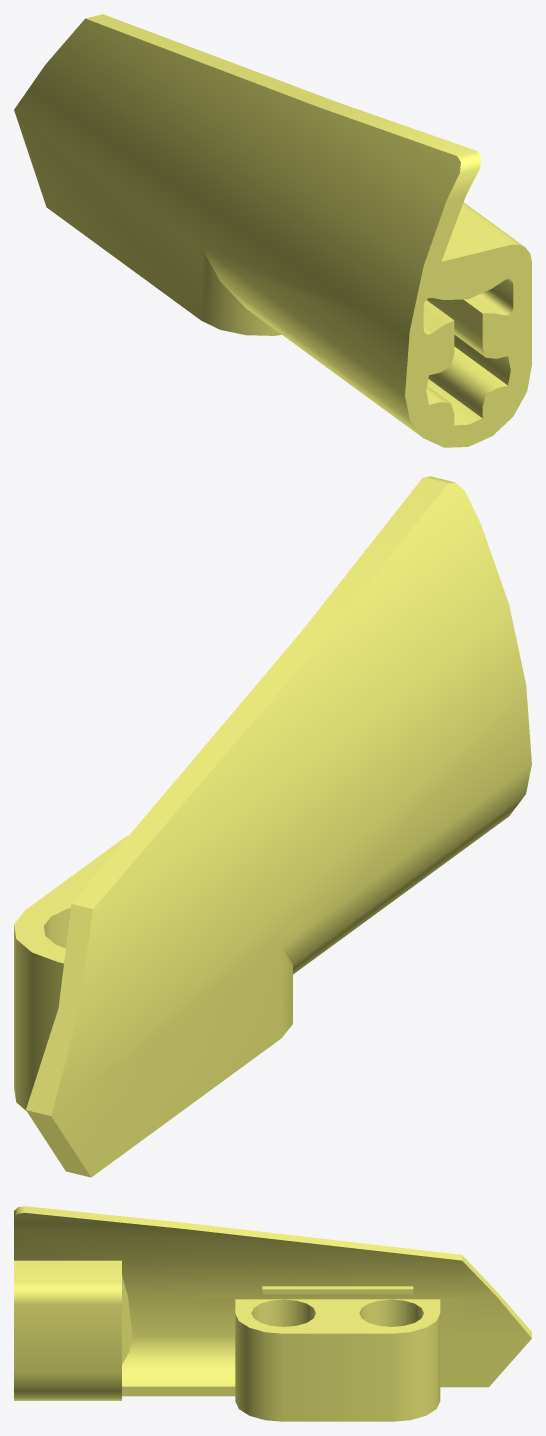
3 views of the same model, one above another, from view 1: azimuth 30°, elevation 25°; view 2: azimuth 150°, elevation 25°; view 3: azimuth 270°, elevation 25° (orthographic). The views are drawn at different scales.
Parts seen in each view (by area): view 1: 11947.dat; view 2: 11947.dat; view 3: 11947.dat.
Part boxes in pixels (bbox=[...]): 11947.dat: bbox=[14, 14, 531, 447]; 11947.dat: bbox=[14, 476, 531, 1177]; 11947.dat: bbox=[14, 1206, 531, 1421].
Size of the model in its own units: 0.0072 by 0.0159 by 0.0384.
